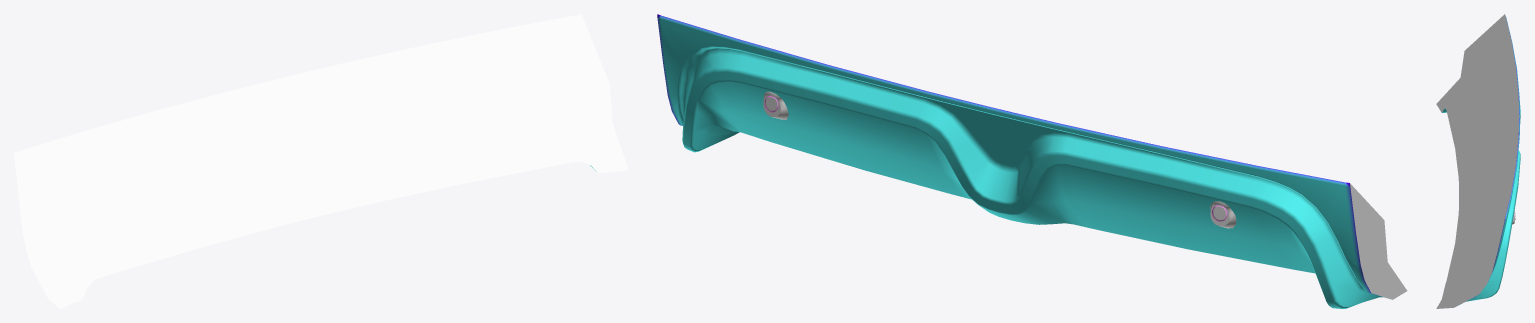
The model's file is Car_Mini_CountrymanJCW_2017_Diffuser_SetA_AltC.fbx.
3 views of the same model, side by side, from view 1: azimuth 30°, elevation 25°; view 2: azimuth 150°, elevation 25°; view 3: azimuth 270°, elevation 25° (orthographic). The views are drawn at different scales.
Parts seen in each view (by area): view 1: Diffuser 6; view 2: Diffuser 6; view 3: Diffuser 6.
Boxes of the visible parts, x1,y1,x2,y2 form: Diffuser 6: (14,14,628,308); Diffuser 6: (657,14,1407,308); Diffuser 6: (1436,14,1520,308).
Bounding box in the file's own units: 0.852 × 0.1751 × 0.1483.
